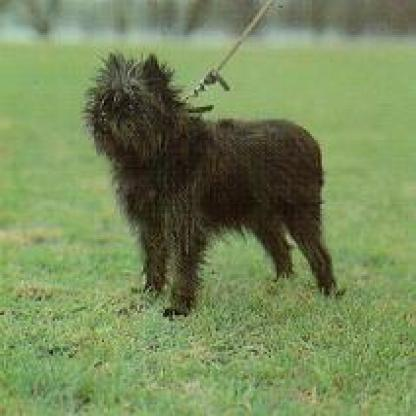affenpinscher: (80, 51, 343, 322)
